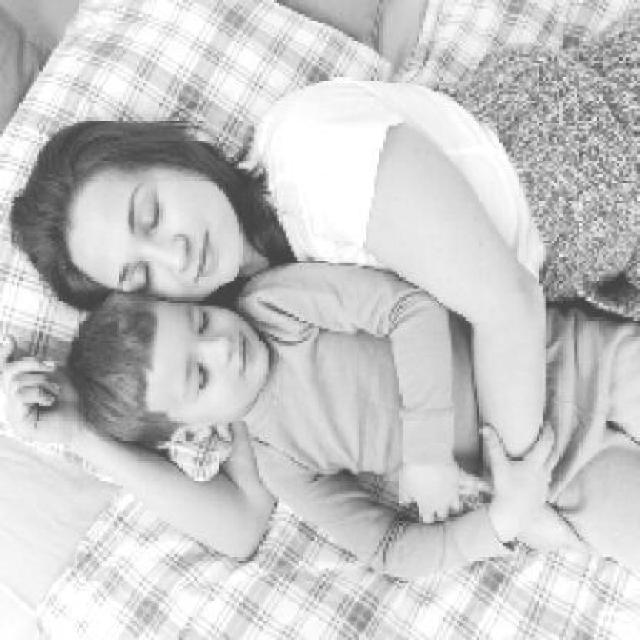child: (67, 260, 639, 580)
